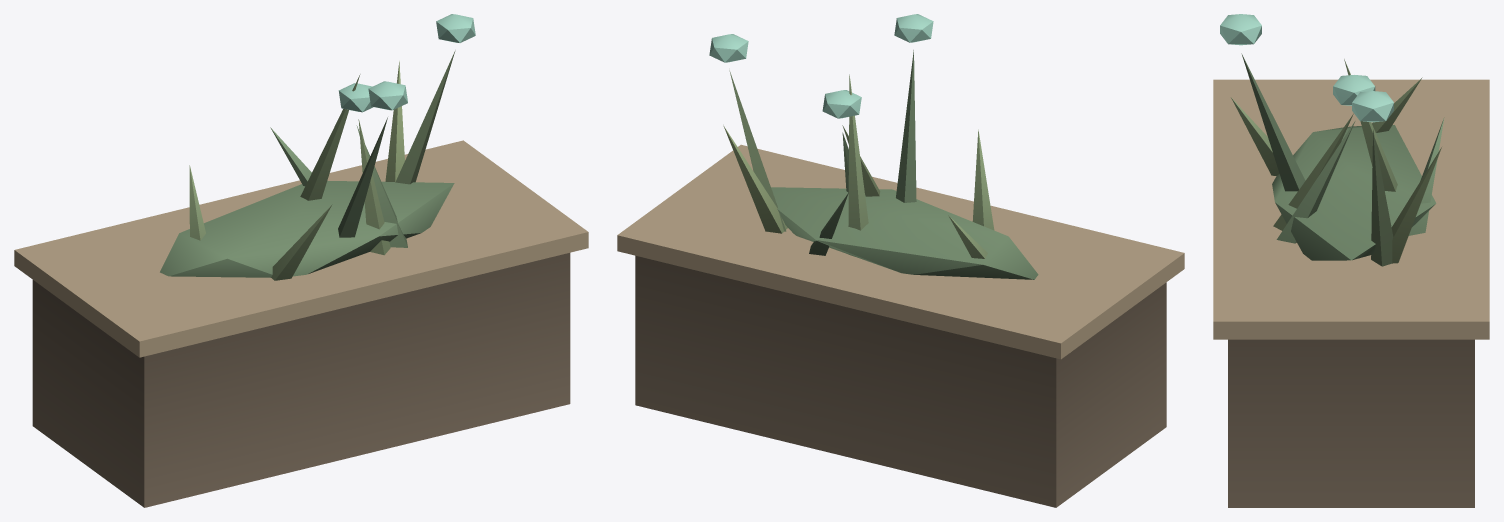
Rendered from hub_planter.glb.
3 renders of one model, left to right at view 1: azimuth 30°, elevation 25°; view 2: azimuth 150°, elevation 25°; view 3: azimuth 270°, elevation 25°, orthographic. The views are drawn at different scales.
Visible parts, largest first — view 1: hub_planter; view 2: hub_planter; view 3: hub_planter.
Part boxes in pixels (bbox=[...]): hub_planter: bbox=[14, 14, 588, 507]; hub_planter: bbox=[617, 14, 1184, 507]; hub_planter: bbox=[1213, 14, 1489, 507].
Size of the model in its own units: 2.32 by 1.78 by 1.12.
